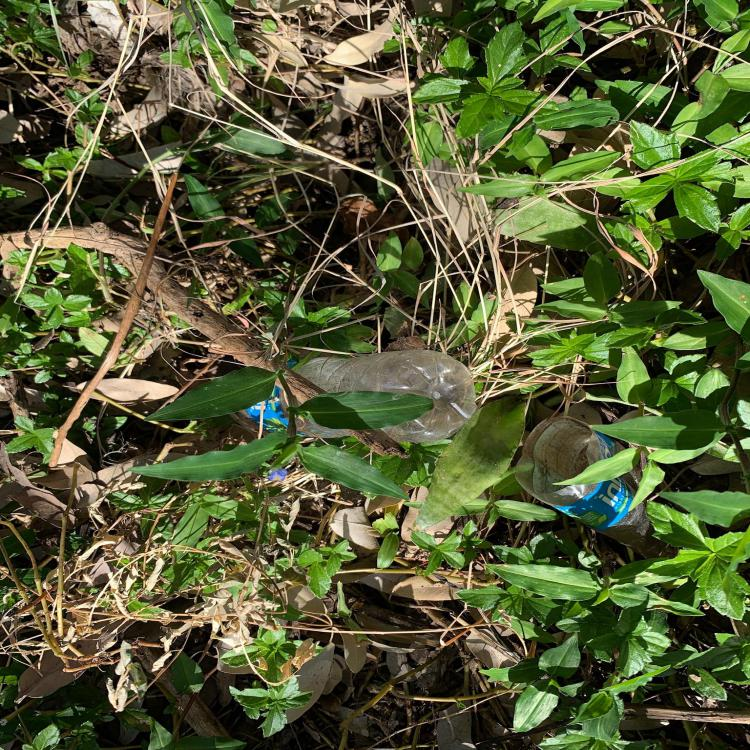Clear plastic bottle: (515, 416, 677, 558), (238, 349, 477, 443)
